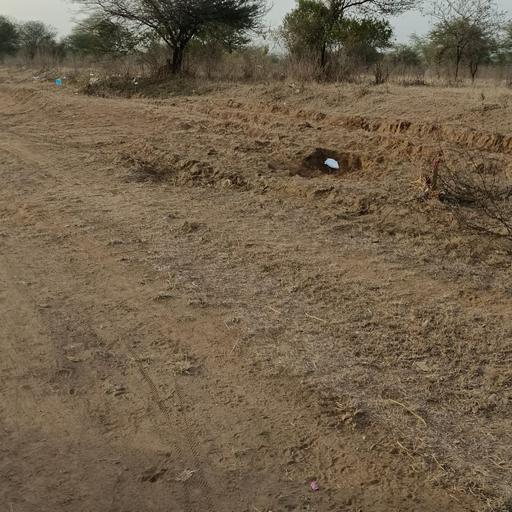vehicle_track: (0, 149, 465, 512)
